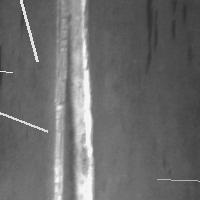scratches: (50, 1, 95, 199), (13, 0, 42, 66), (0, 104, 52, 136), (144, 1, 161, 71), (170, 1, 187, 39), (152, 174, 200, 187), (18, 1, 29, 27), (0, 64, 17, 77)
